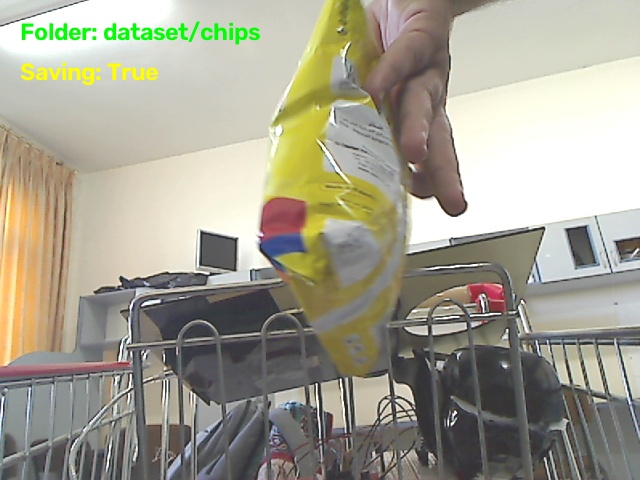chips: (260, 0, 406, 375)
